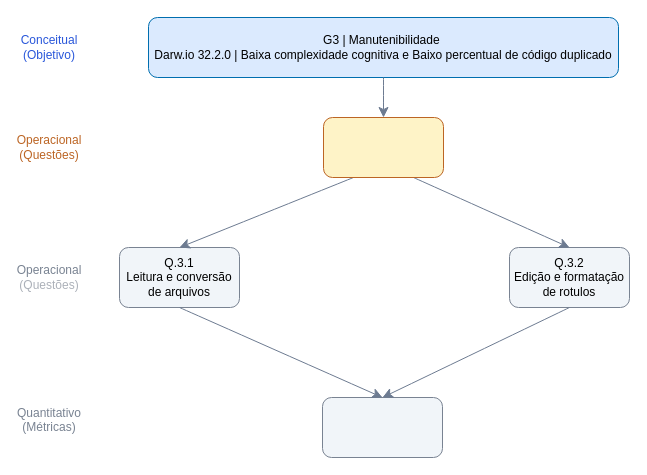
The diagram is 647 pixels wide and 475 high, and some of its shapes have lost their labels. The box of each missing label's shape, as (x1, y1, x2, y2) in pixels:
M.3.1 Complexidade cognitiva média por função: (322, 396, 442, 458)
Modificabilidade: (322, 116, 444, 178)
